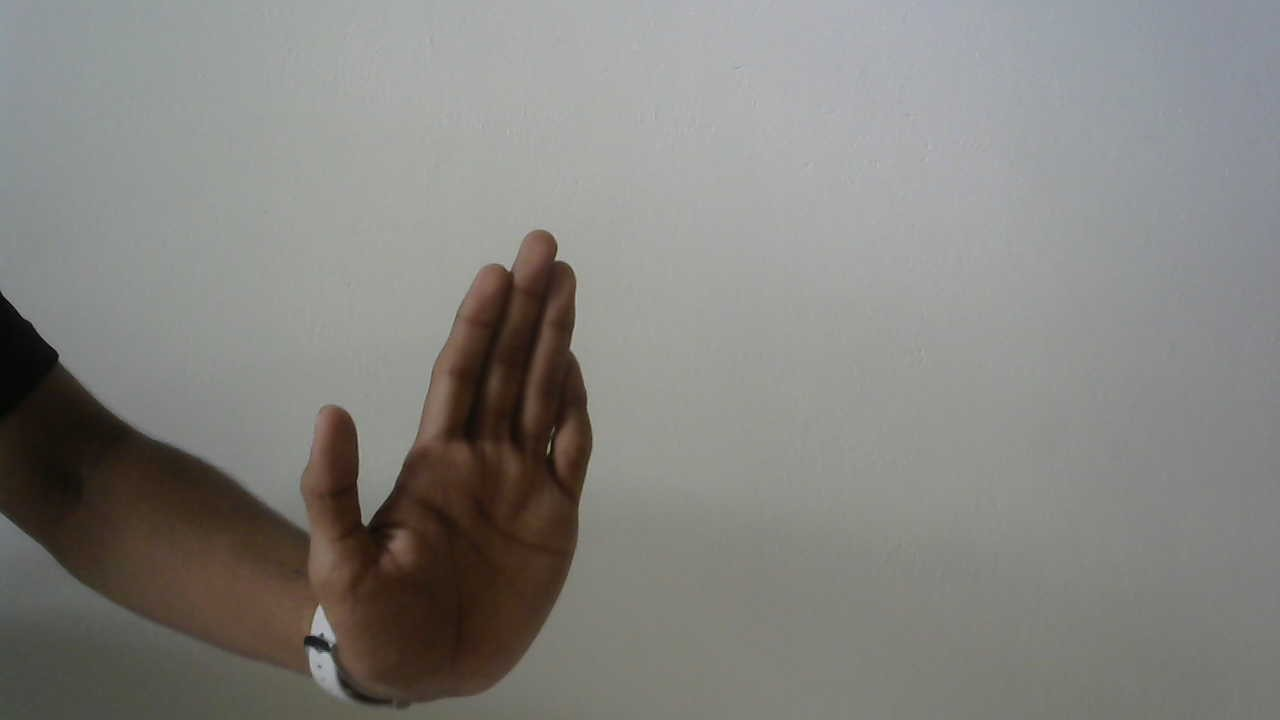hello: (293, 224, 604, 715)
